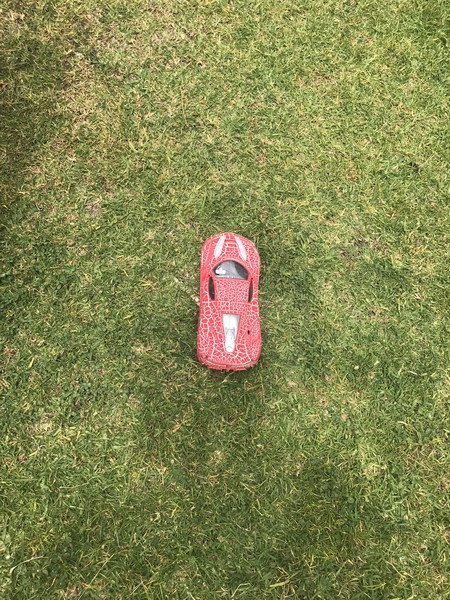RC: (195, 232, 263, 372)
